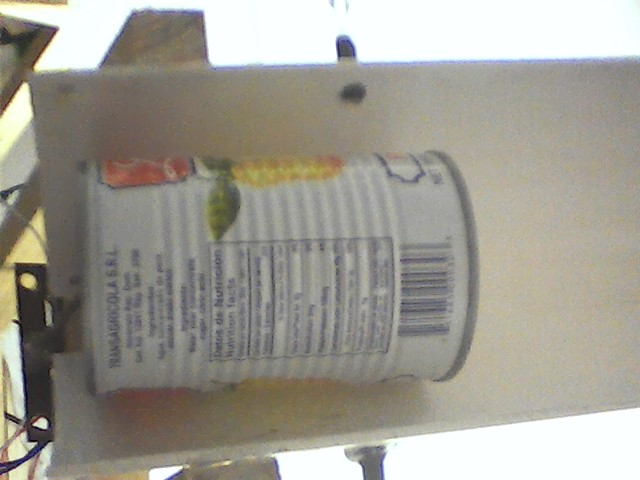lata: (71, 143, 488, 400)
